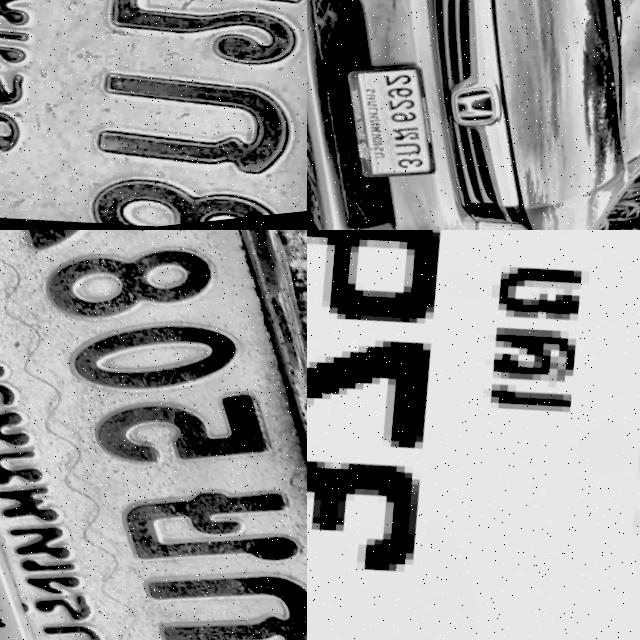license-plate: (307, 230, 640, 640), (0, 230, 307, 640), (0, 0, 307, 230), (315, 51, 450, 200)
